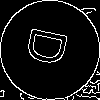D: (25, 25, 78, 70)
